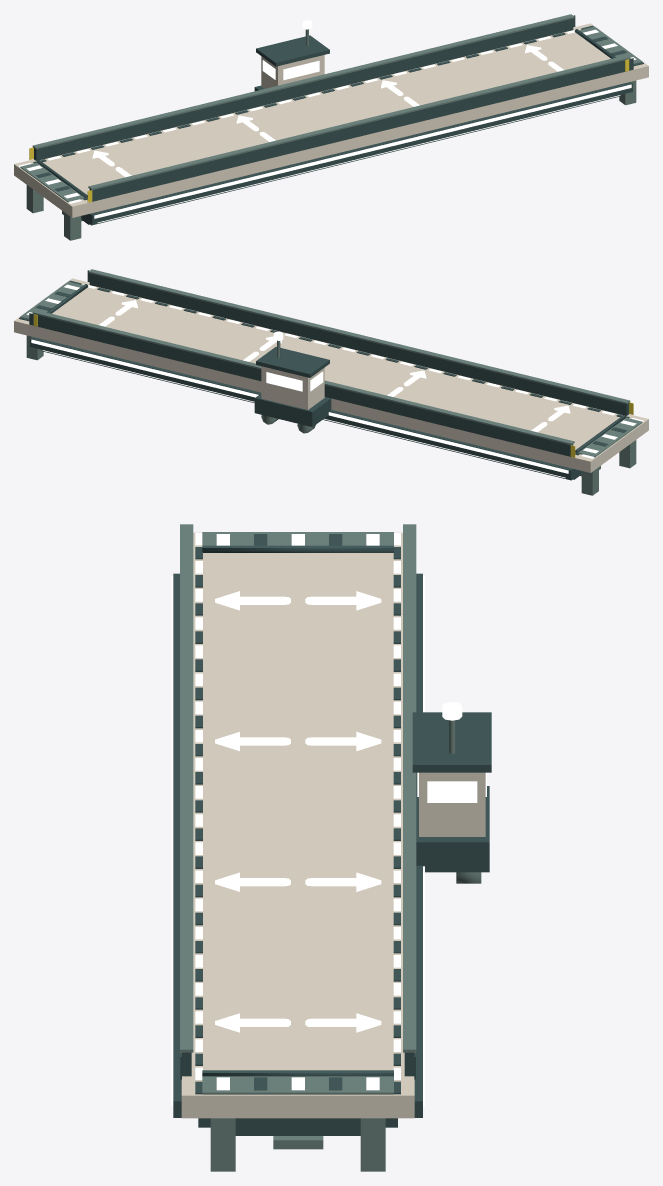
The model's file is Deck_Ferry_v4_16_lab.glb.
The picture shows the model from 3 angles, top to bottom: view 1: azimuth 30°, elevation 25°; view 2: azimuth 150°, elevation 25°; view 3: azimuth 270°, elevation 25°; orthographic projection. The views are drawn at different scales.
Visible parts, largest first — view 1: Deck_Ferry_v4_16; view 2: Deck_Ferry_v4_16; view 3: Deck_Ferry_v4_16.
Boxes of the visible parts, box(x1,y1,x2,y2) form: Deck_Ferry_v4_16: box(14, 14, 648, 240); Deck_Ferry_v4_16: box(14, 269, 648, 495); Deck_Ferry_v4_16: box(171, 524, 491, 1171).
Bounding box in the file's own units: 16 × 2.7 × 3.85.
